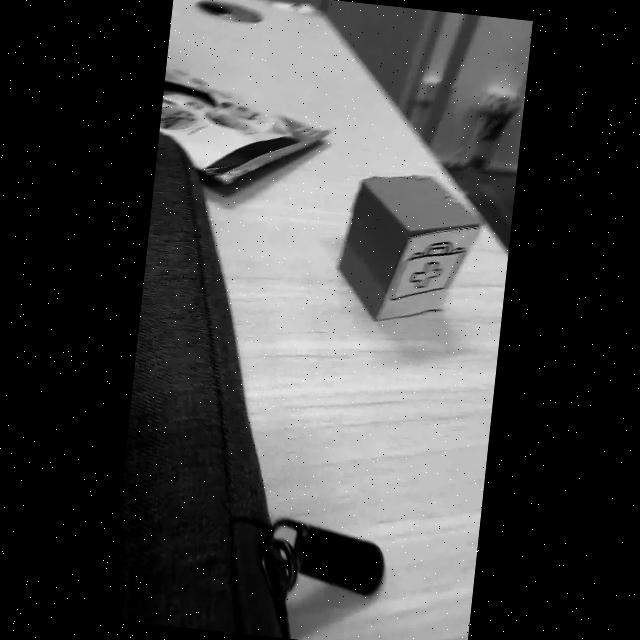Medkit: (388, 242, 465, 299)
